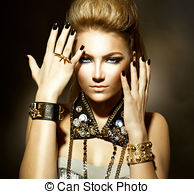face: (52, 16, 130, 105)
